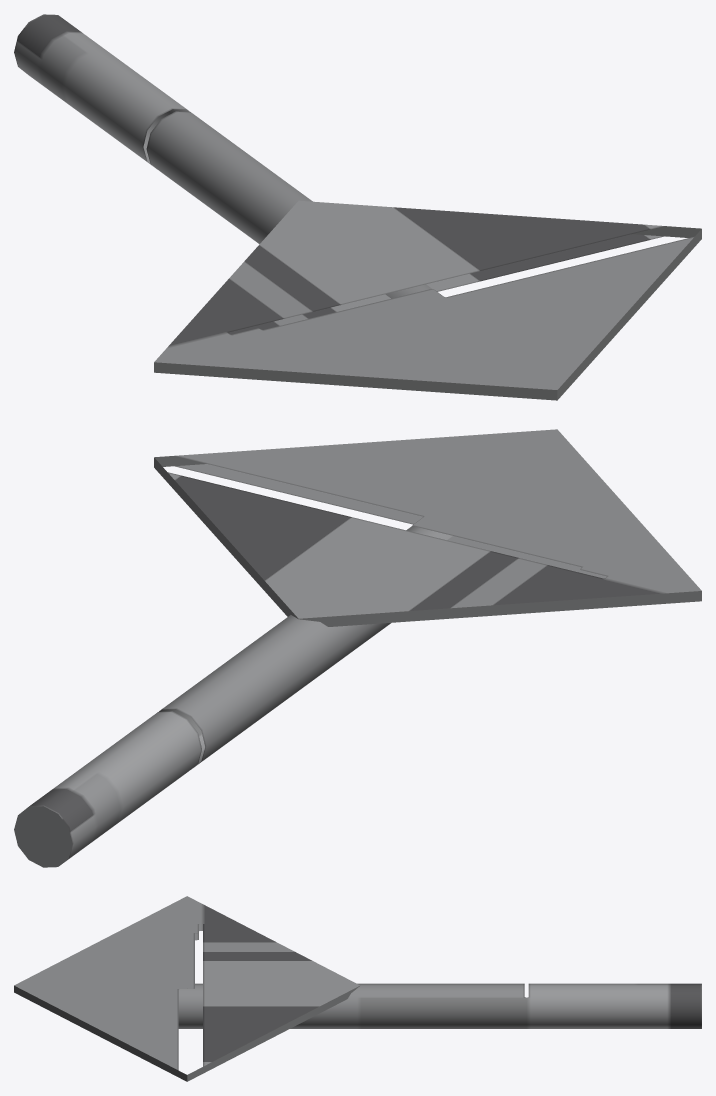
3 views of the same model, one above another, from view 1: azimuth 30°, elevation 25°; view 2: azimuth 150°, elevation 25°; view 3: azimuth 270°, elevation 25° (orthographic). The views are drawn at different scales.
Bounding box in the file's own units: 1.19 × 0.1285 × 1.93.
